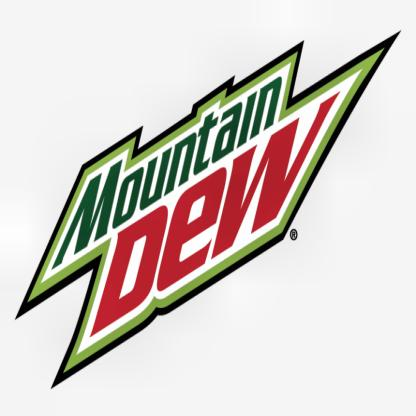Mountain Dew: (16, 19, 403, 398)
